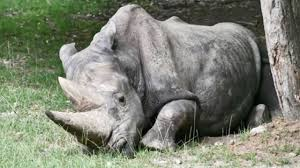Rhinoceros: (34, 1, 272, 161)
